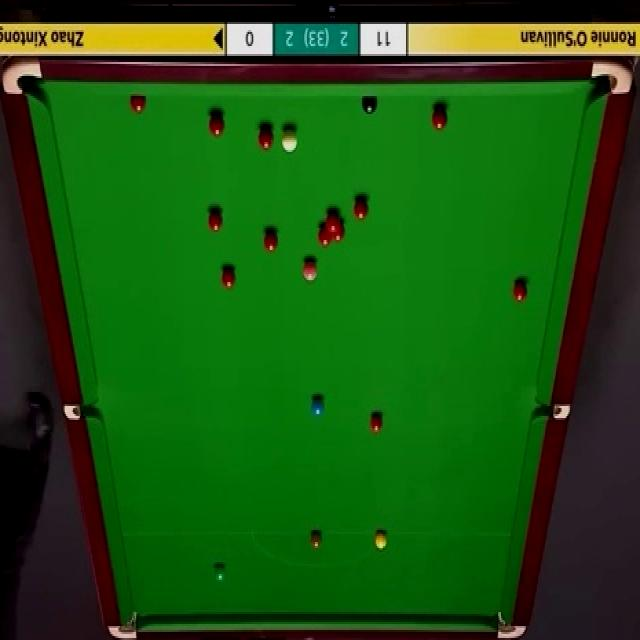black-ball: (360, 94, 378, 115)
blue-ball: (310, 396, 325, 416)
brown-ball: (310, 532, 322, 552)
green-ball: (214, 562, 228, 584)
pink-ball: (301, 256, 318, 281)
red-ball: (264, 229, 282, 255), (432, 105, 449, 132), (133, 96, 155, 115), (220, 265, 236, 291), (258, 124, 274, 150), (208, 113, 226, 136), (512, 277, 528, 302), (208, 206, 222, 233), (353, 196, 368, 220), (332, 218, 346, 242), (370, 411, 384, 434), (318, 222, 331, 246), (324, 210, 340, 229)
white-ball: (283, 127, 297, 151)
yellow-ball: (374, 531, 388, 549)
